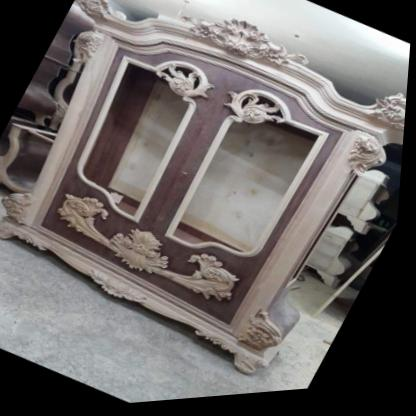Closet: (0, 0, 408, 381)
